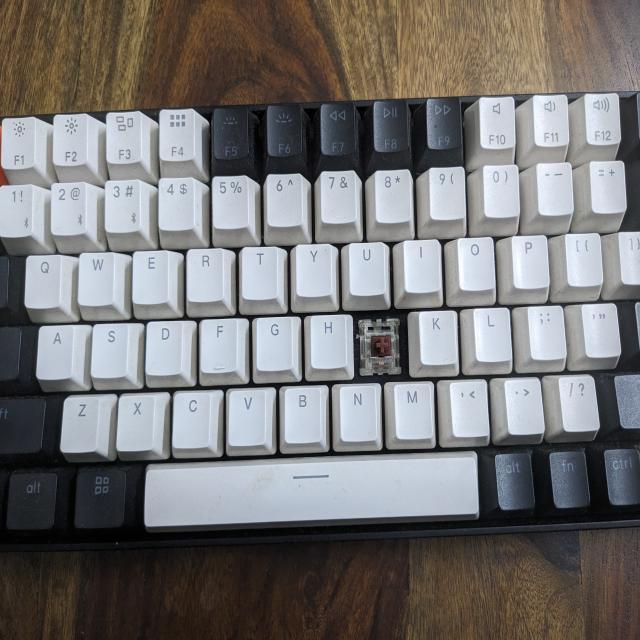C: (358, 318, 402, 374)
